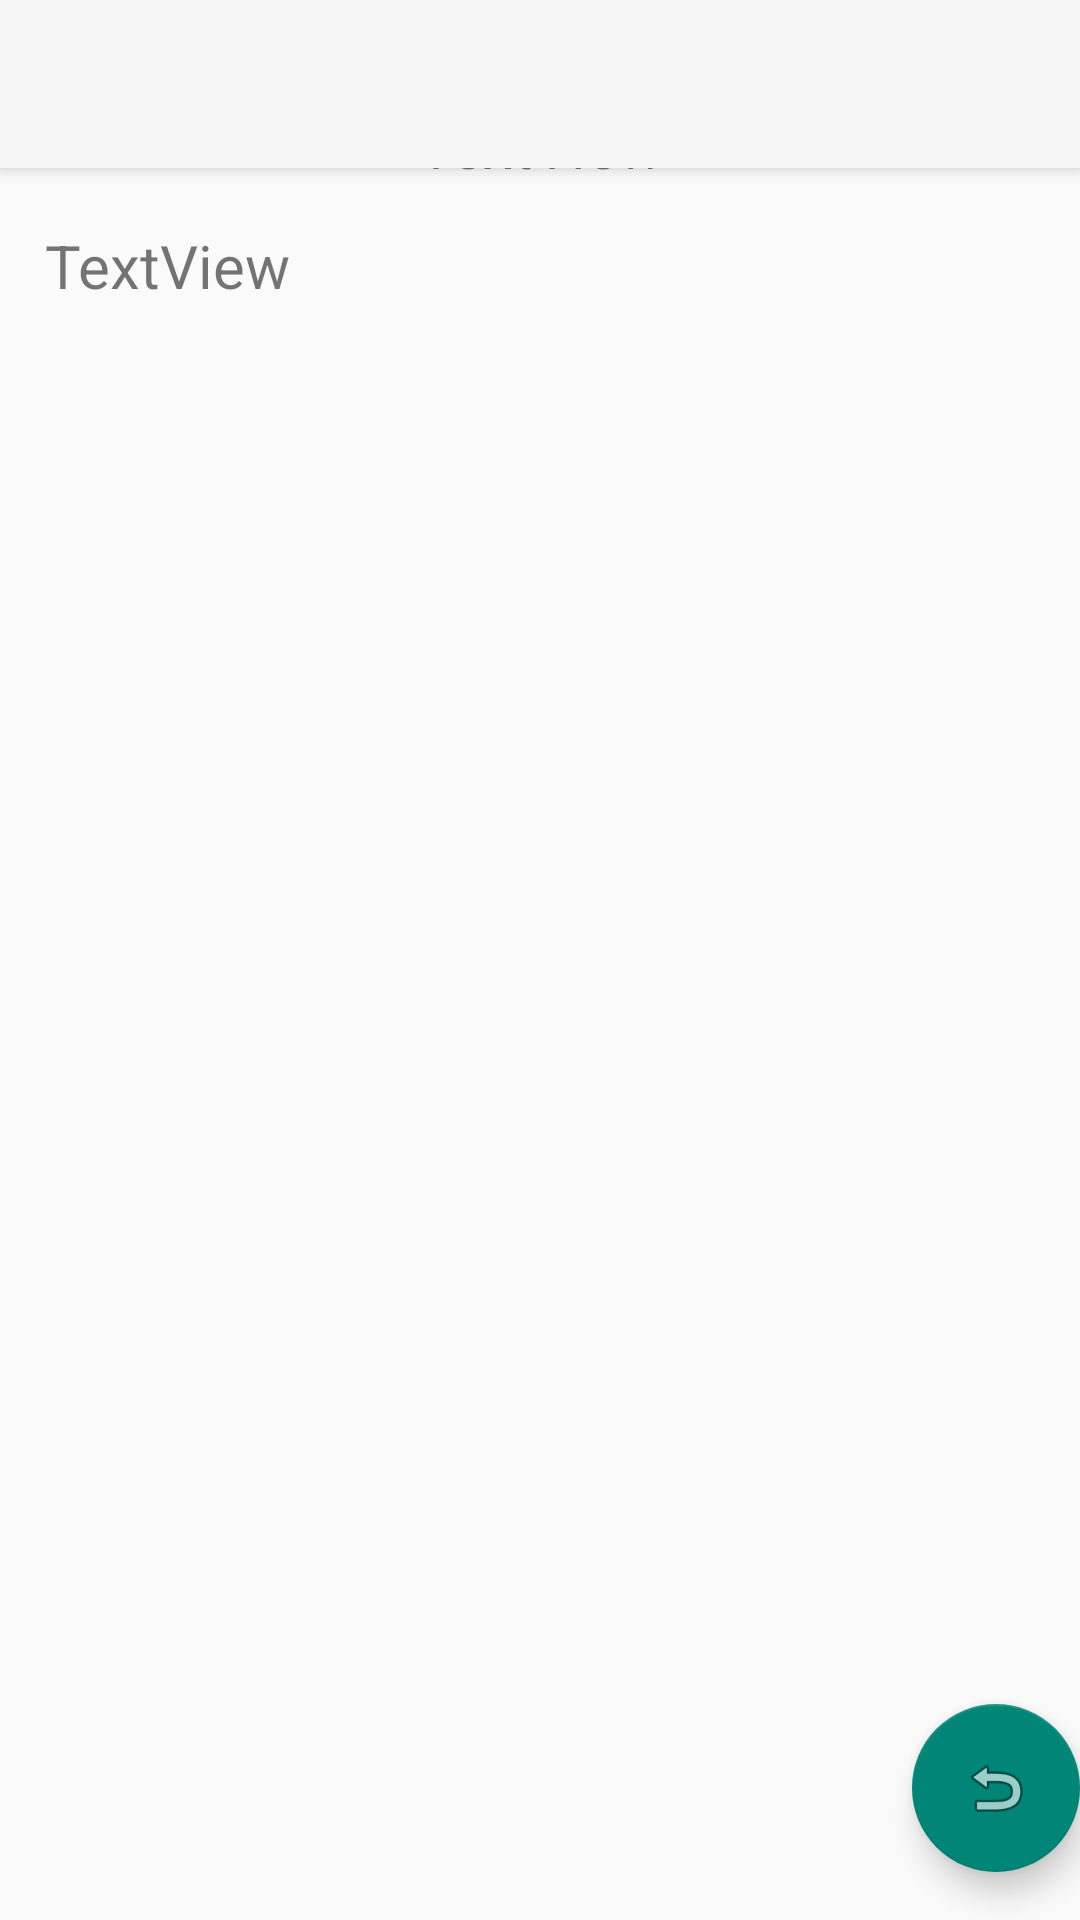

Point at icon controls on the screen. Image size 1080 x 1920, points as (x,y).
revert: (996,1788)
